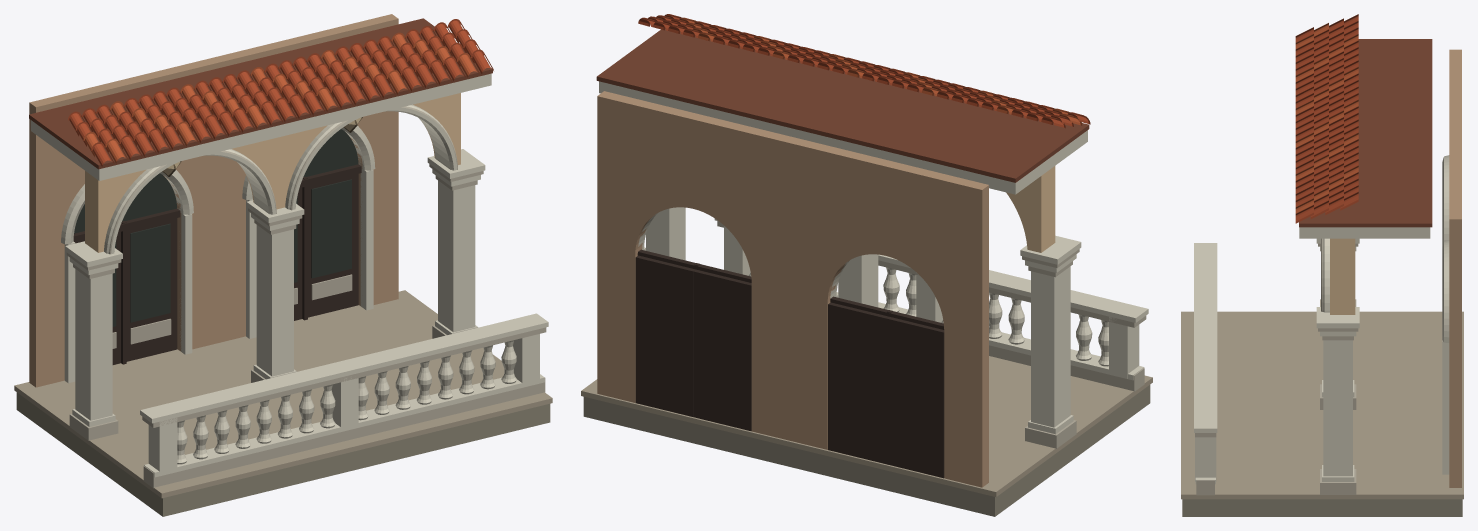
Rendered from xuhui-anting-villa-garden-arcade-raw.glb.
The picture shows the model from 3 angles, left to right: view 1: azimuth 30°, elevation 25°; view 2: azimuth 150°, elevation 25°; view 3: azimuth 270°, elevation 25°; orthographic projection. The views are drawn at different scales.
Visible parts, largest first — view 1: 安亭别墅1号楼花园券廊; view 2: 安亭别墅1号楼花园券廊; view 3: 安亭别墅1号楼花园券廊.
Boxes of the visible parts, bbox=[...] form: 安亭别墅1号楼花园券廊: bbox=[14, 14, 552, 516]; 安亭别墅1号楼花园券廊: bbox=[581, 14, 1152, 516]; 安亭别墅1号楼花园券廊: bbox=[1181, 14, 1463, 516].
Bounding box in the file's own units: 5.62 × 4.55 × 3.61.
